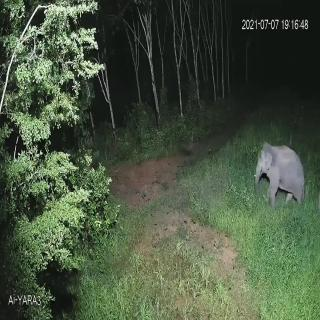Elephant: (252, 132, 308, 214)
